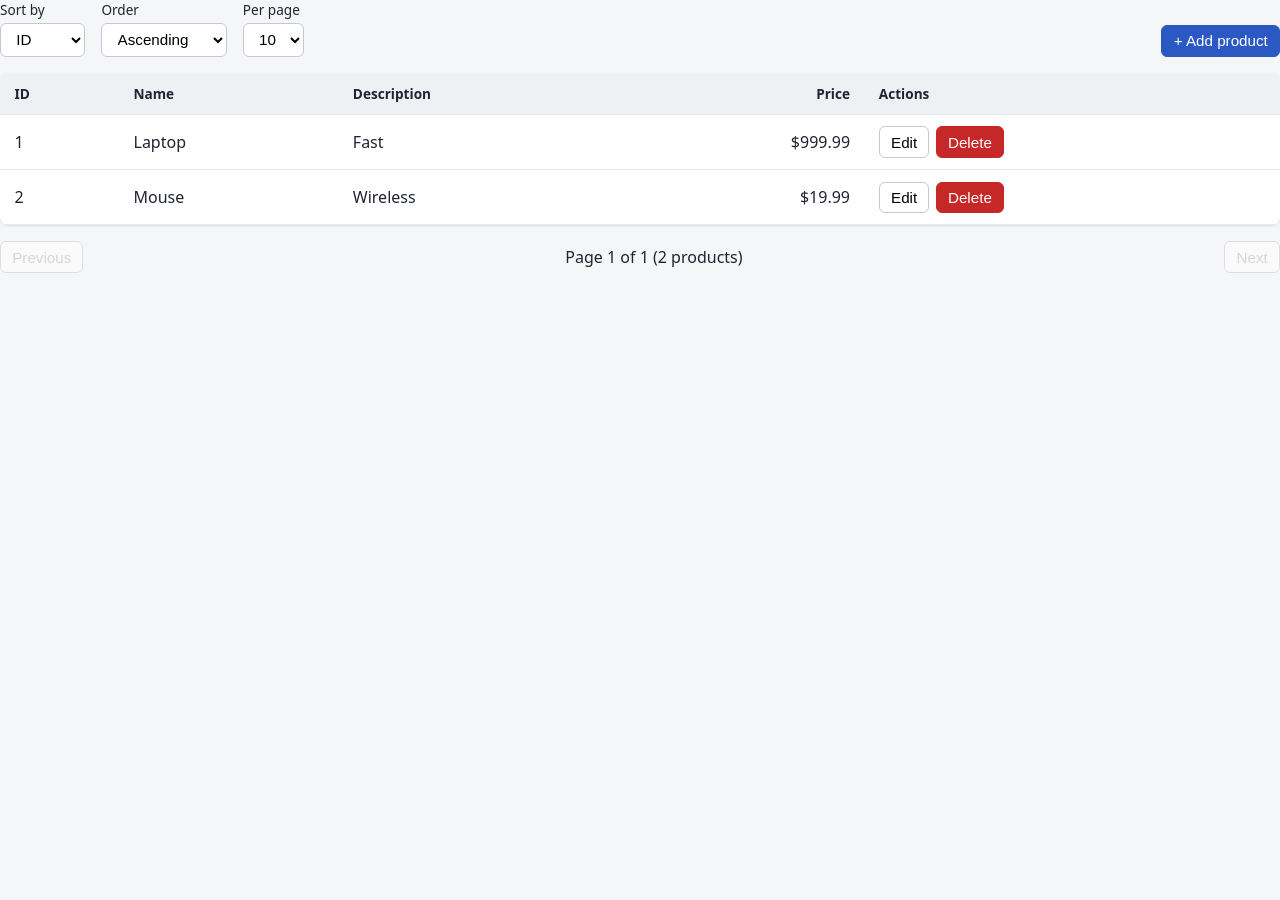
ProductList › asks for confirmation and does nothing on Cancel
expect the text "Laptop" is shown: met, box [119, 115, 338, 170]
Click the button "Delete" in the row of "Laptop": {"x": 970, "y": 142} [936, 126, 1004, 158]
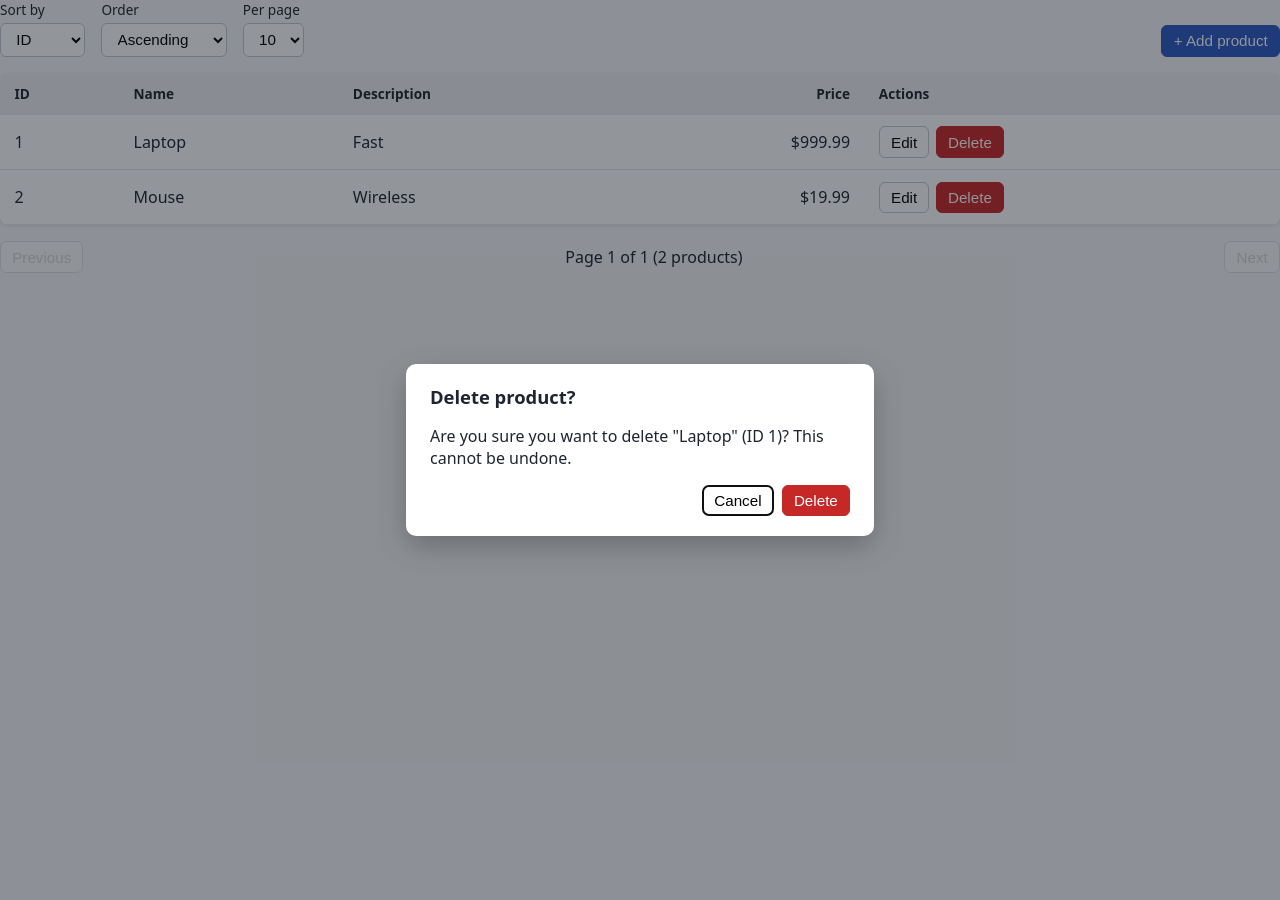
expect the dialog shows "\"Laptop\" (ID 1)": met, box [430, 425, 824, 469]
Click the button "Cancel": {"x": 738, "y": 500} [702, 485, 774, 516]
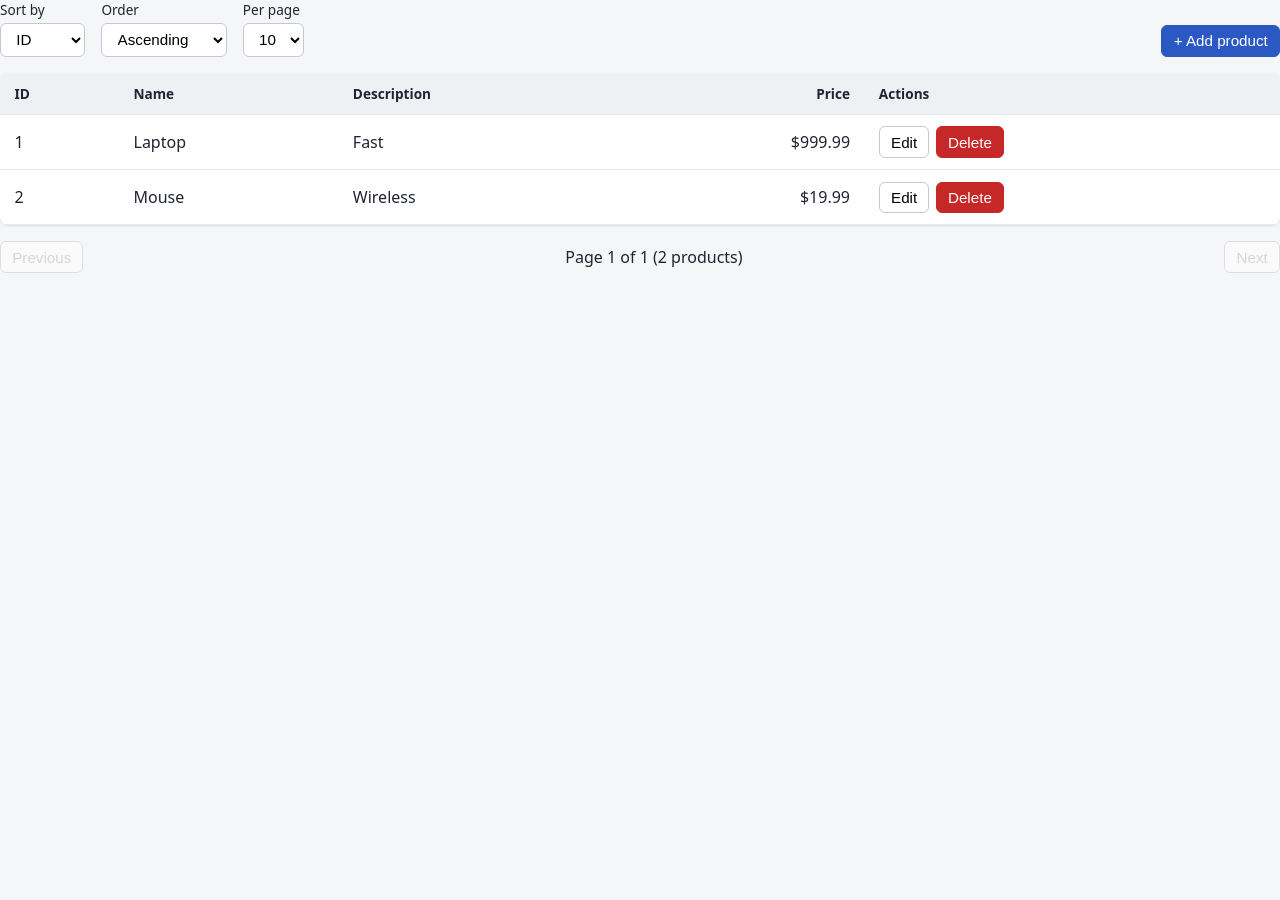
expect the dialog is gone: met
